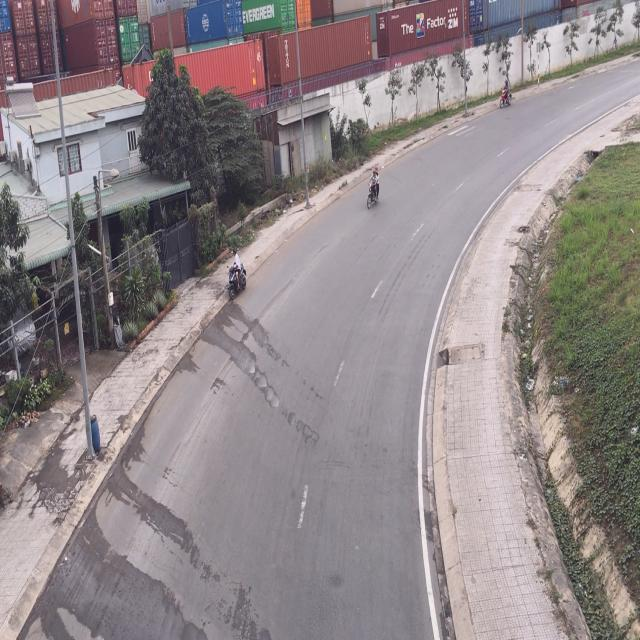motorbike: (227, 253, 247, 303), (364, 164, 380, 211), (498, 71, 513, 113)
